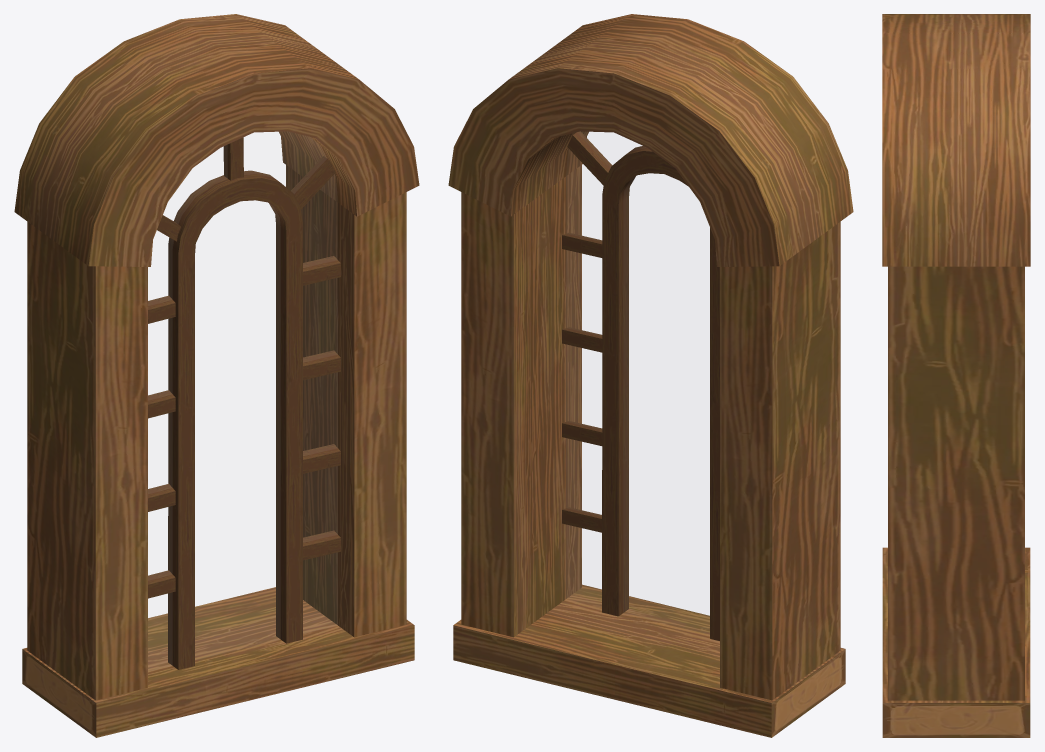
The model's file is Window_Thin_Round1.glb.
The picture shows the model from 3 angles, left to right: view 1: azimuth 30°, elevation 25°; view 2: azimuth 150°, elevation 25°; view 3: azimuth 270°, elevation 25°; orthographic projection.
Parts seen in each view (by area): view 1: Window_Thin_Round1; view 2: Window_Thin_Round1; view 3: Window_Thin_Round1.
Boxes of the visible parts, bbox=[...] form: Window_Thin_Round1: bbox=[14, 14, 419, 737]; Window_Thin_Round1: bbox=[448, 14, 853, 737]; Window_Thin_Round1: bbox=[882, 14, 1030, 737].
Bounding box in the file's own units: 0.8877 × 1.6 × 0.3444.
2 materials, 1 textured.
